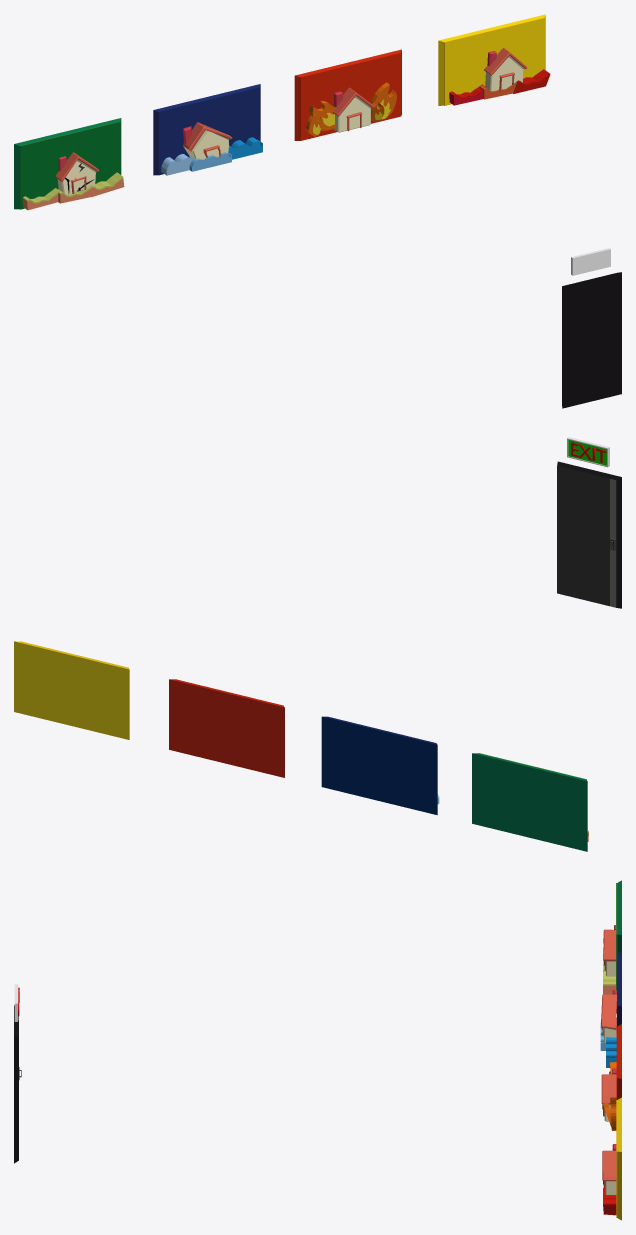
File: mainmenu.fbx
3 renders of one model, top to bottom at view 1: azimuth 30°, elevation 25°; view 2: azimuth 150°, elevation 25°; view 3: azimuth 270°, elevation 25°, orthographic. The views are drawn at different scales.
Parts seen in each view (by area): view 1: exit, volcano, earthquake, typhoon, fire, home.fr, home.ty, home.vl, home.eq, Cube; view 2: exit, typhoon, earthquake, volcano, fire, Cube; view 3: exit, volcano, home.ty, home.vl, home.eq, home.fr.
Boxes of the visible parts, x1,y1,x2,y2 form: exit: (562, 272, 621, 408); volcano: (438, 14, 545, 105); earthquake: (14, 118, 121, 209); typhoon: (153, 84, 260, 175); fire: (294, 49, 401, 140); home.fr: (333, 87, 374, 132); home.ty: (183, 122, 232, 159); home.vl: (484, 48, 527, 91); home.eq: (55, 152, 99, 194); Cube: (571, 248, 610, 275); exit: (557, 461, 621, 608); typhoon: (321, 716, 437, 815); earthquake: (472, 753, 587, 851); volcano: (14, 641, 129, 739); fire: (169, 679, 284, 777); Cube: (567, 437, 609, 467); exit: (14, 1005, 21, 1163); volcano: (616, 1097, 621, 1220); home.ty: (601, 990, 616, 1042); home.vl: (602, 1144, 616, 1194); home.eq: (603, 925, 615, 976); home.fr: (601, 1068, 616, 1121).
Bounding box in the file's own units: 3237 × 857 × 3058.
25 materials, 22 textured.
